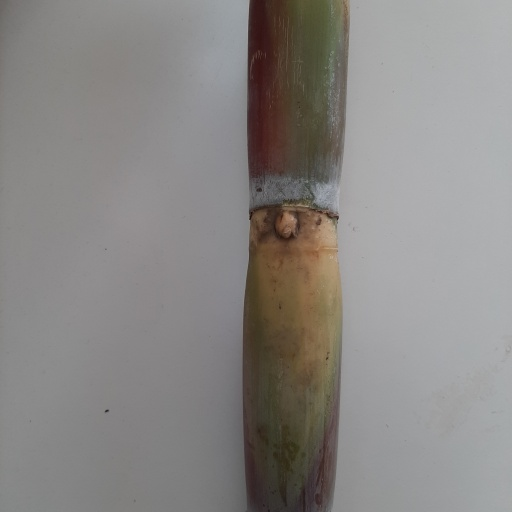Bud: (274, 207, 299, 242)
